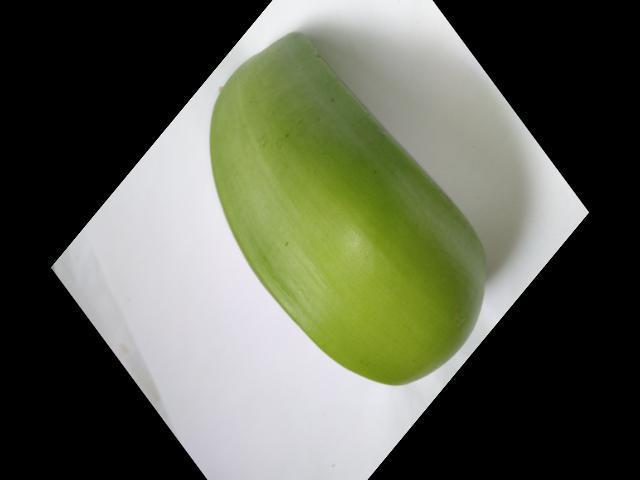freshunripe: (191, 19, 513, 400)
